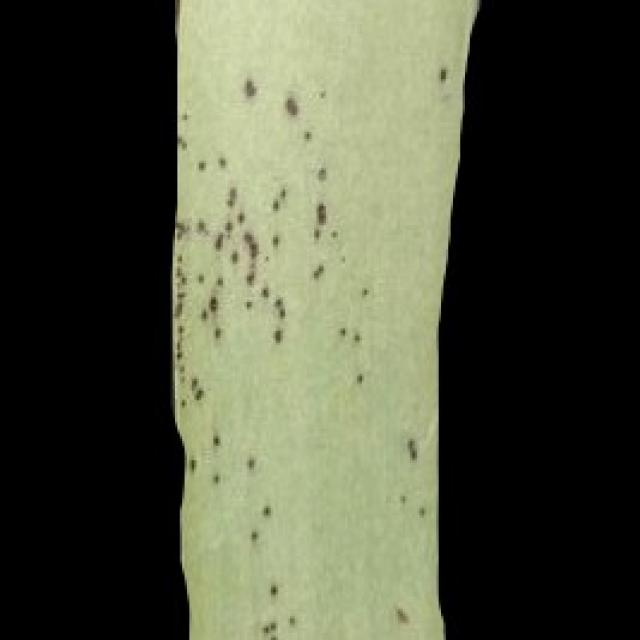mite: (252, 575, 300, 638), (256, 616, 278, 638), (431, 62, 451, 86), (312, 199, 328, 223), (391, 604, 410, 623), (403, 436, 417, 460), (264, 578, 280, 599), (283, 93, 297, 115), (314, 163, 328, 182), (266, 580, 278, 597), (259, 501, 271, 518), (352, 369, 364, 386), (436, 65, 448, 81), (247, 527, 259, 542), (285, 611, 297, 626)
